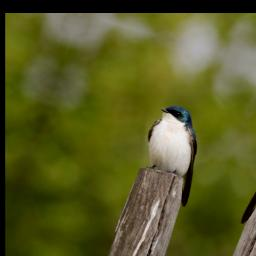Swallow: (125, 96, 220, 208)
